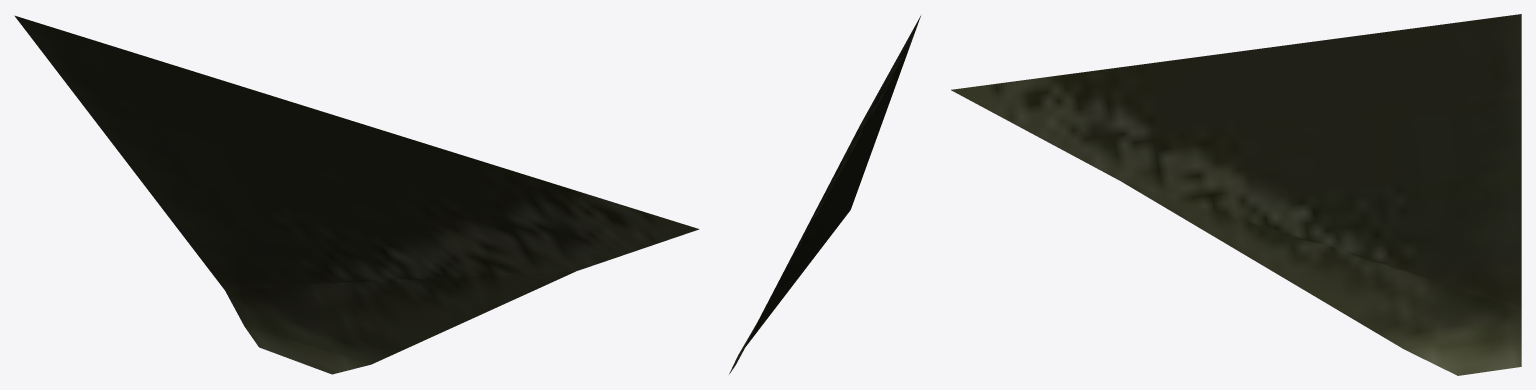
3 views of the same model, side by side, from view 1: azimuth 30°, elevation 25°; view 2: azimuth 150°, elevation 25°; view 3: azimuth 270°, elevation 25° (orthographic). The views are drawn at different scales.
Bounding box in the file's own units: 4.27 × 6.22 × 11.26.
1 material, 1 textured.
